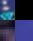recallP: (0, 0, 15, 20)
sword: (15, 0, 33, 20)
